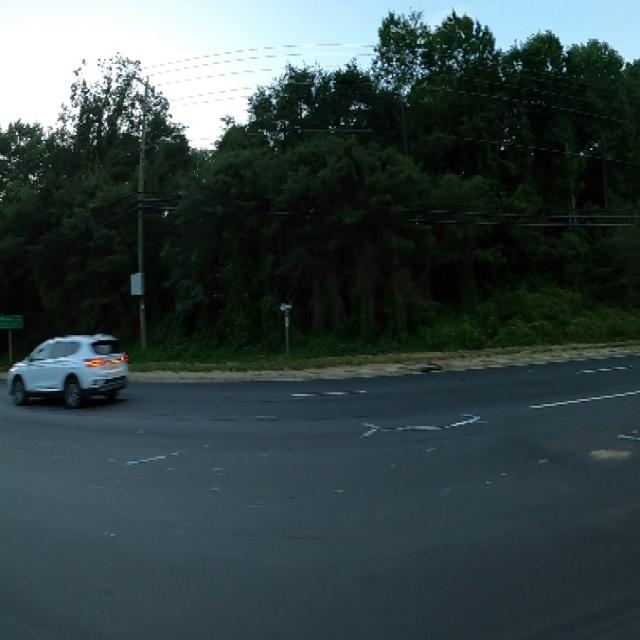cars: (4, 323, 132, 418)
